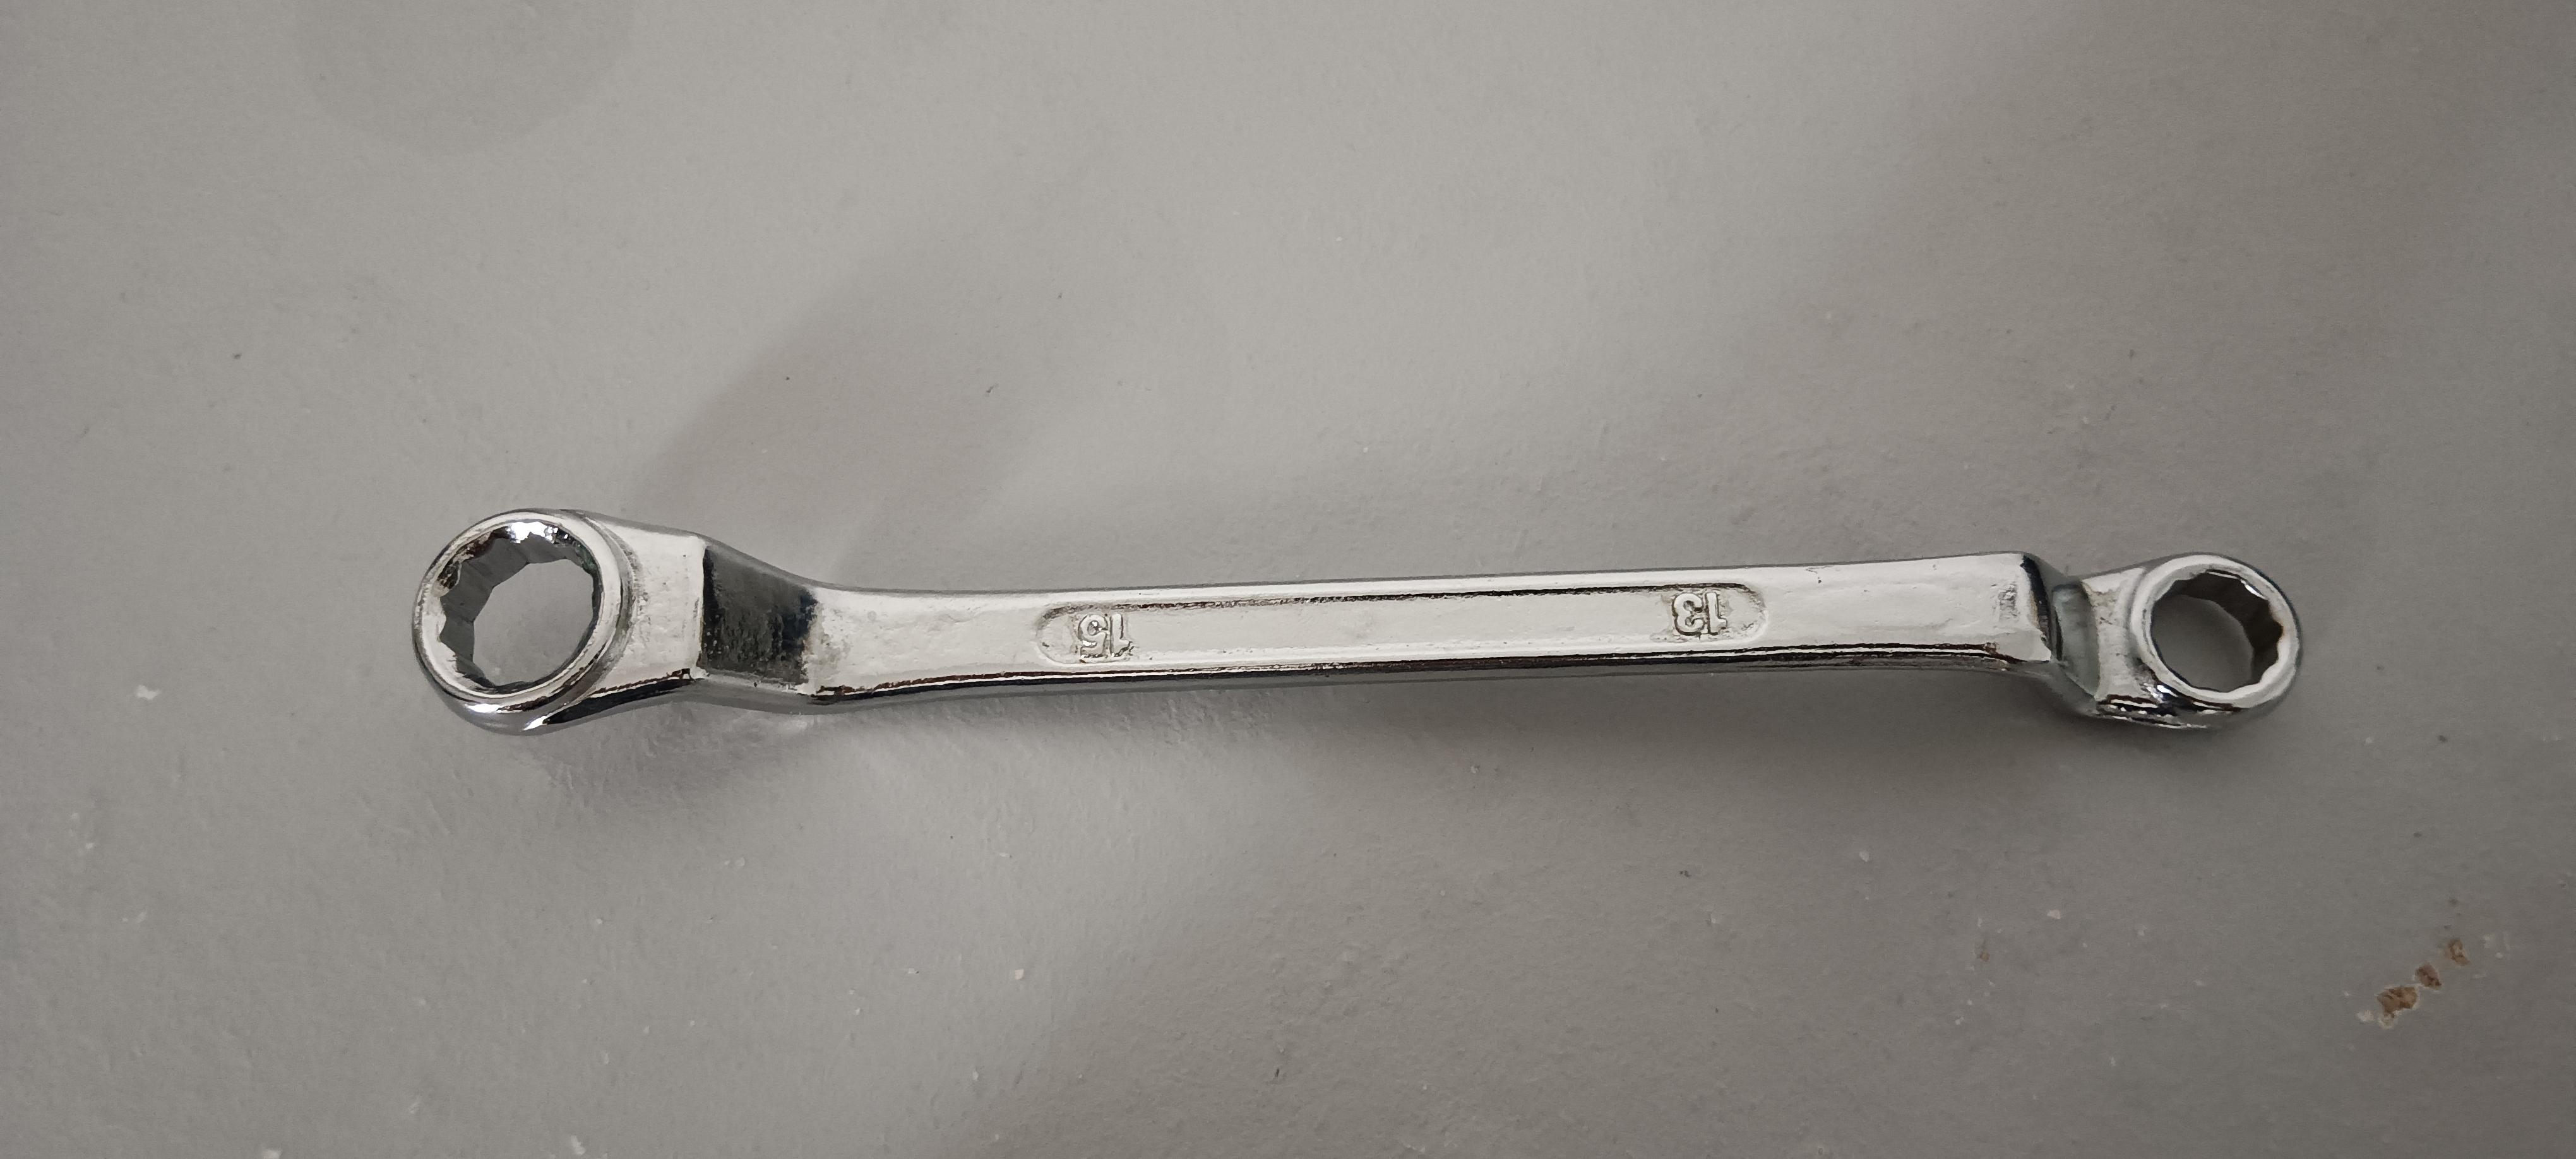Spanners: (388, 417, 2343, 852)
